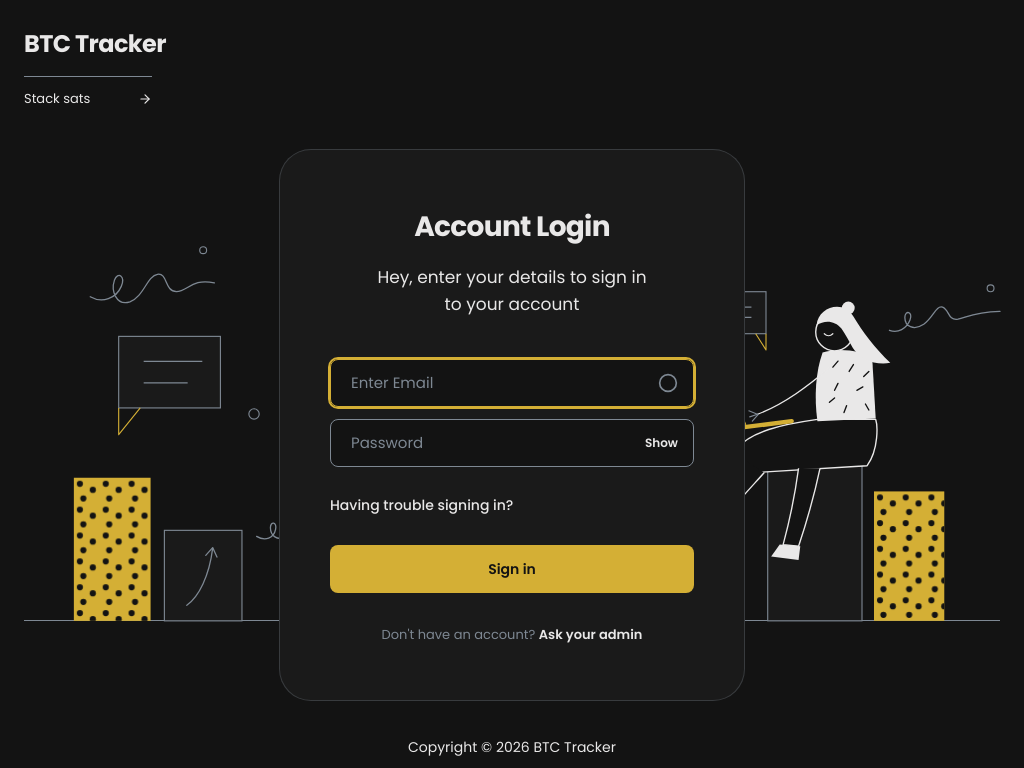
Test: authentication › on a 401 clears the token, goes to /login, and returns to the same page after logging in
Type "me@example.com" into the field labelled "Email" at (512, 383), box x1=330 y1=359 x2=694 y2=407
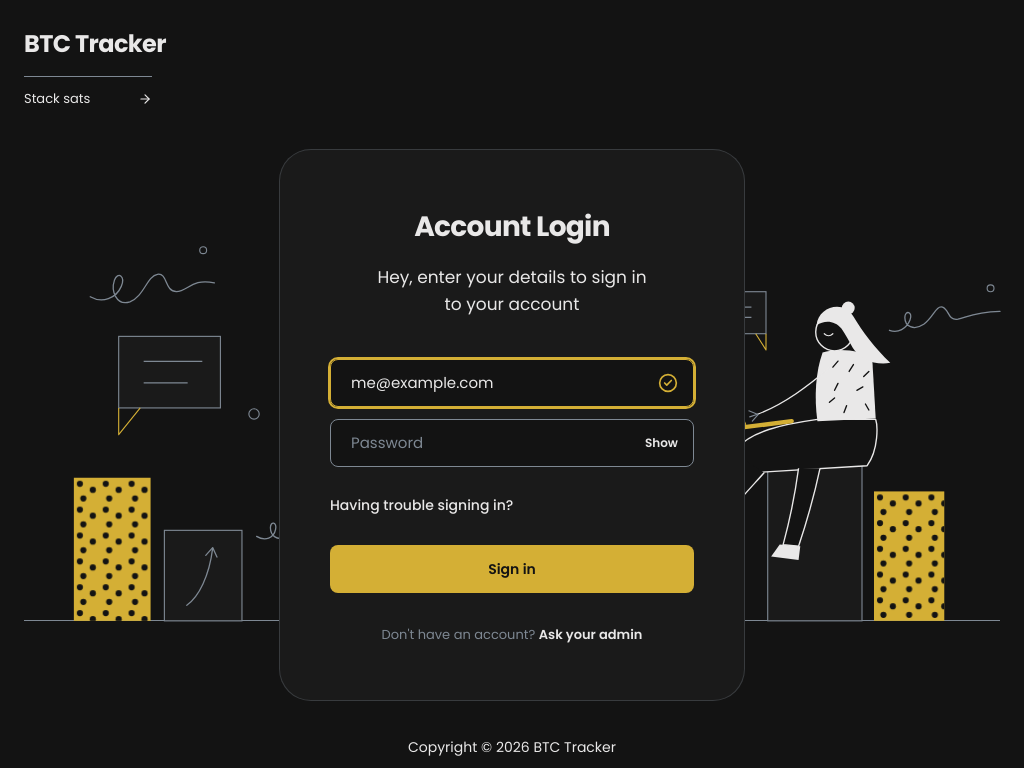
Type "correct horse battery staple" into the password field labelled "Password" at (512, 443), box x1=330 y1=419 x2=694 y2=467
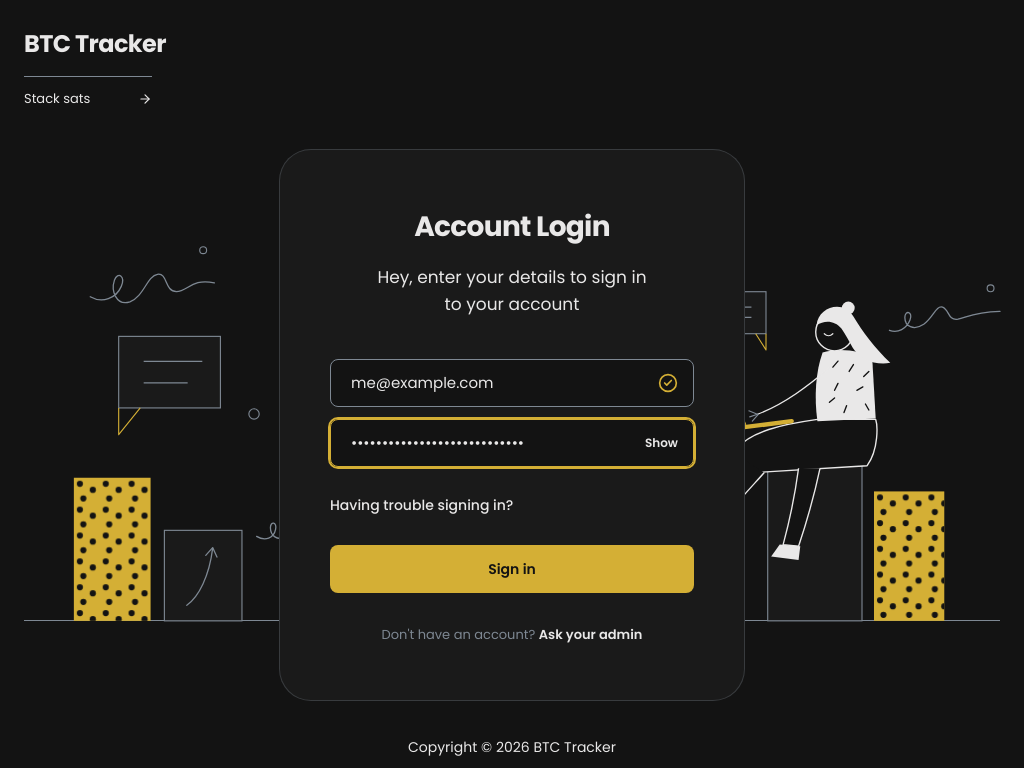
Click the button "Sign in" at (512, 569), box x1=330 y1=545 x2=694 y2=593
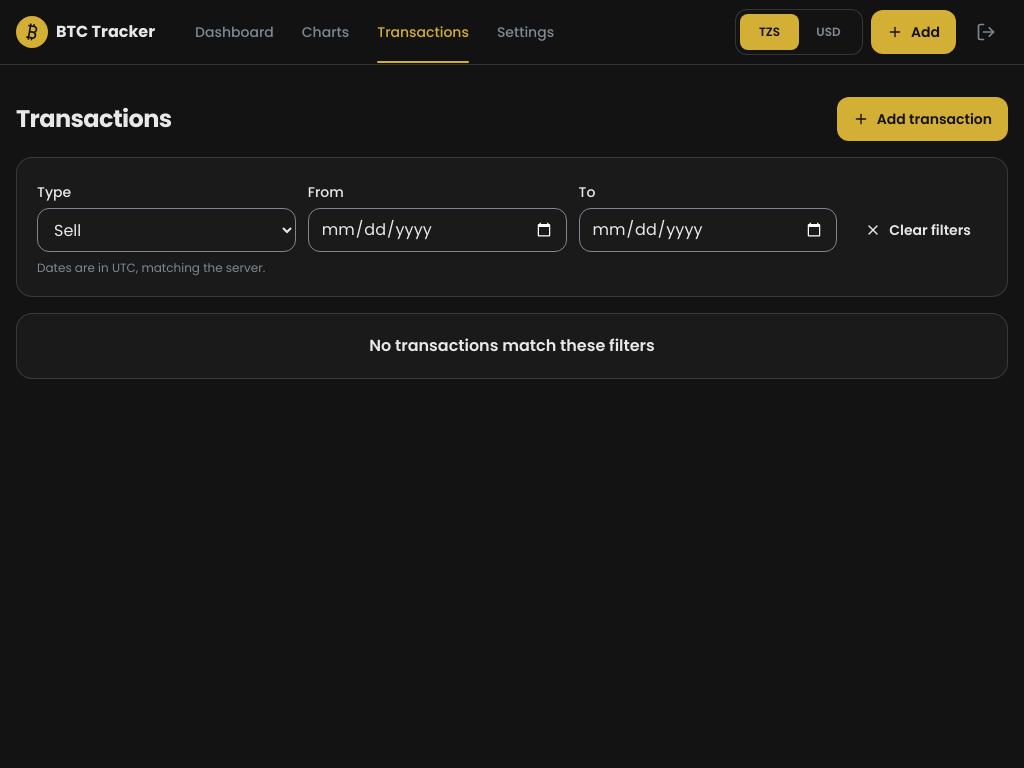
Now the heading "Transactions" is shown, box x1=16 y1=103 x2=172 y2=135
